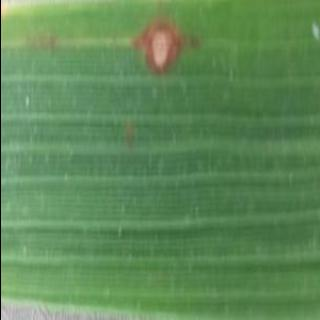Blast: (122, 16, 188, 82)
